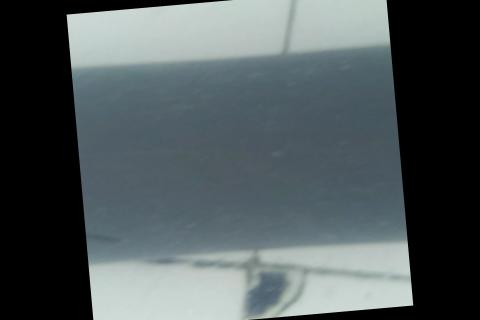keretakan: (85, 223, 126, 246)
